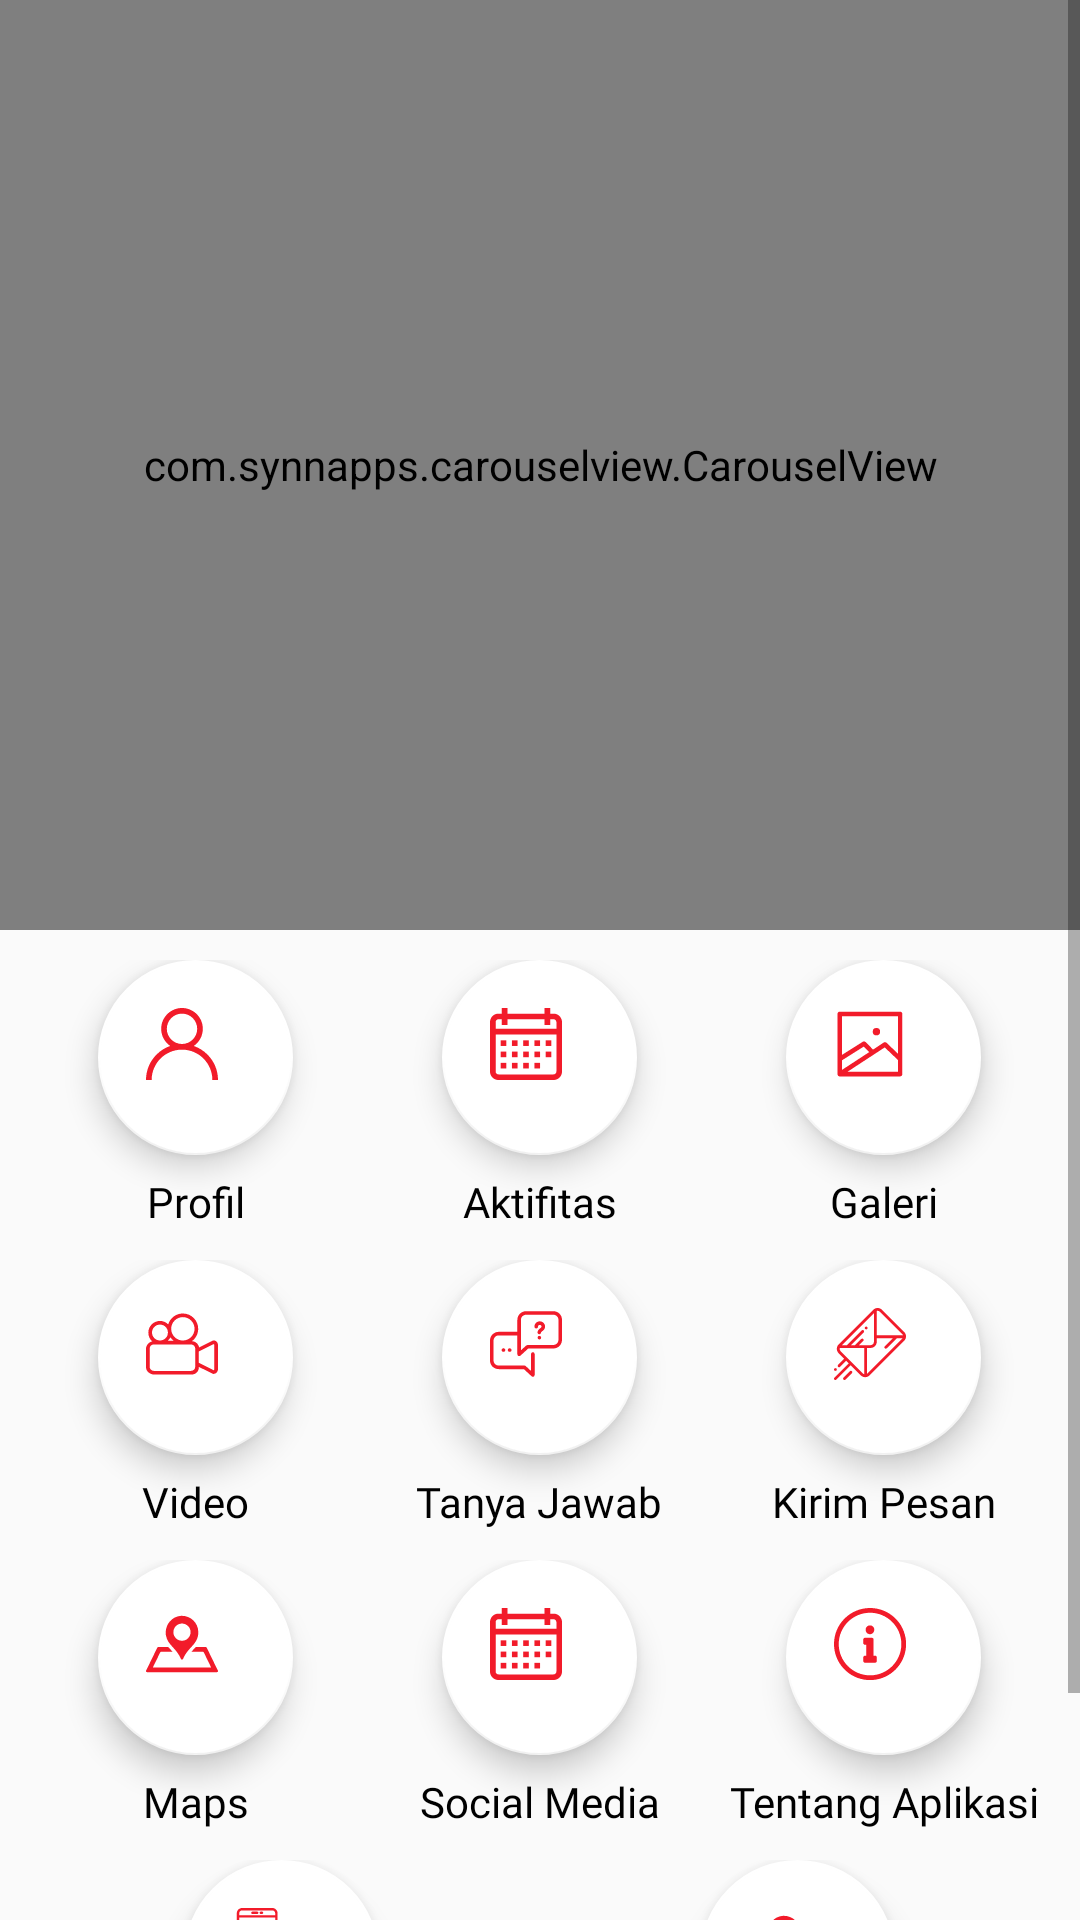

Locate icon controls on the screen. Image size 1080px x 1920px, boxes as (x1, y1, x2, y2).
calendar: (442, 1008, 637, 1080), (442, 1608, 637, 1680)
discuss issue: (442, 1311, 637, 1455)
gallery: (837, 1011, 979, 1077)
information: (790, 1608, 981, 1755)
user: (98, 1008, 218, 1080)
